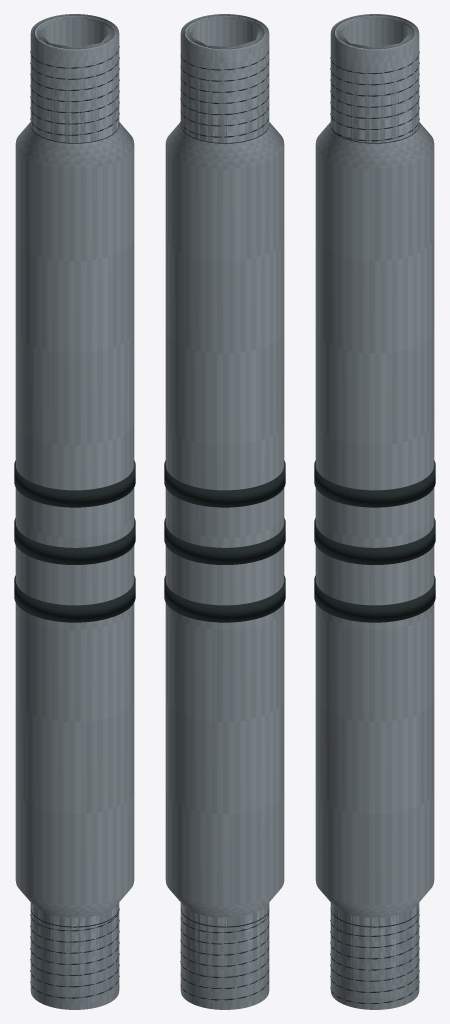
Rendered from gap-sub.glb.
3 views of the same model, side by side, from view 1: azimuth 90°, elevation 25°; view 2: azimuth 150°, elevation 25°; view 3: azimuth 270°, elevation 25° (orthographic).
Parts seen in each view (by area): view 1: tool-housing (×3), service-features (×2), uphole-connection (×2), downhole-connection (×2); view 2: tool-housing (×3), service-features (×2), uphole-connection (×2), downhole-connection (×2); view 3: tool-housing (×3), service-features (×2), uphole-connection (×2), downhole-connection (×2).
Part boxes in pixels (box(x1,y1,x2,y2)): tool-housing (×3): box(15, 14, 134, 1009); service-features (×2): box(14, 460, 135, 622); uphole-connection (×2): box(30, 14, 119, 143); downhole-connection (×2): box(30, 902, 119, 1009); tool-housing (×3): box(165, 14, 284, 1009); service-features (×2): box(164, 460, 285, 622); uphole-connection (×2): box(180, 14, 269, 143); downhole-connection (×2): box(180, 903, 269, 1009); tool-housing (×3): box(315, 14, 434, 1009); service-features (×2): box(314, 460, 435, 622); uphole-connection (×2): box(330, 14, 419, 143); downhole-connection (×2): box(330, 902, 419, 1009).
Bounding box in the file's own units: 0.1194 × 1.04 × 0.1194.
Materials: 3 (3 with a texture image).
